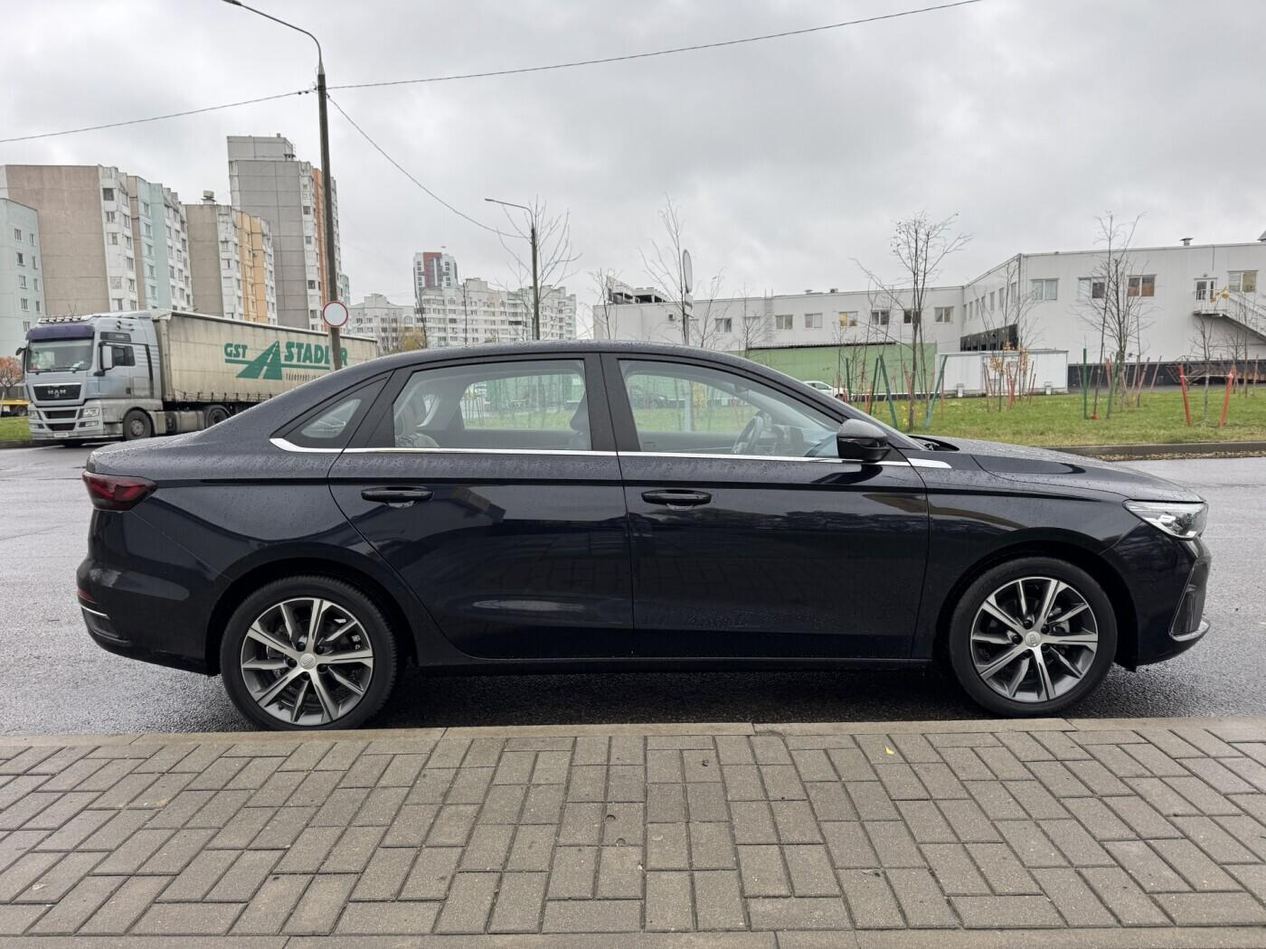Emgrand_2021: (72, 332, 1222, 748)
